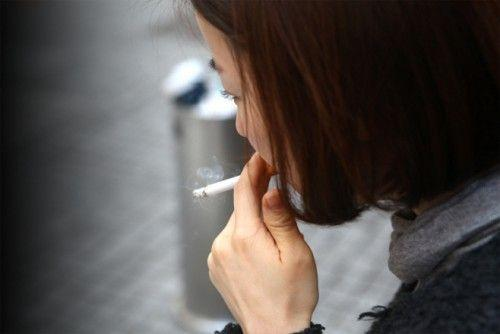smoke: (193, 164, 282, 200)
